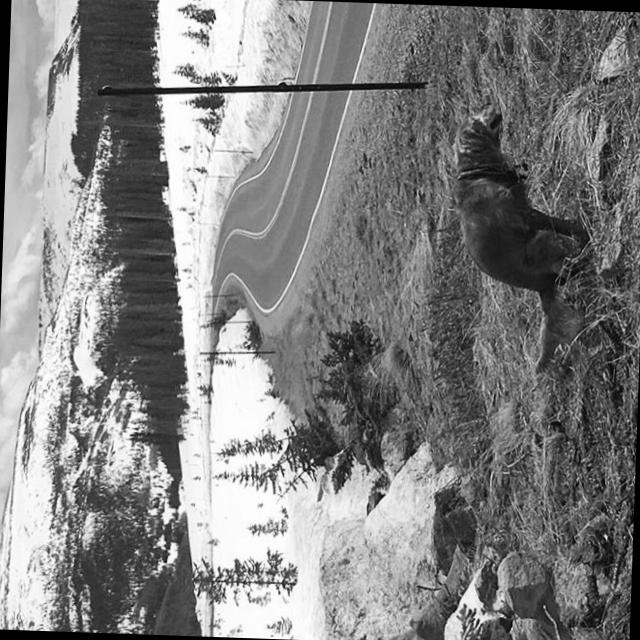squatting: (434, 94, 603, 377)
